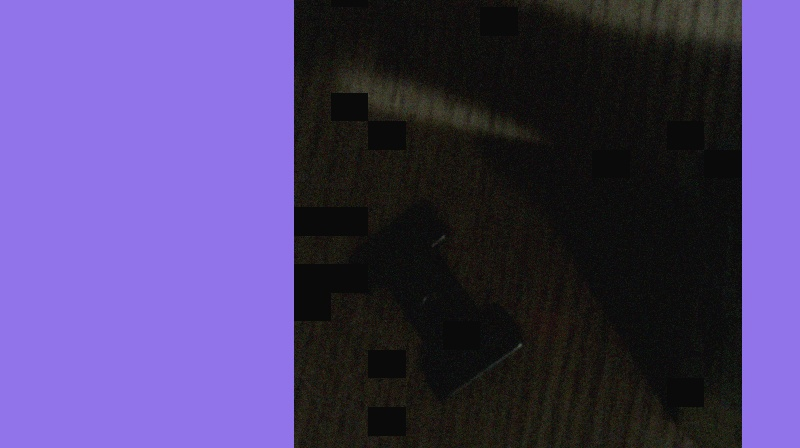O002: (344, 198, 525, 403)
